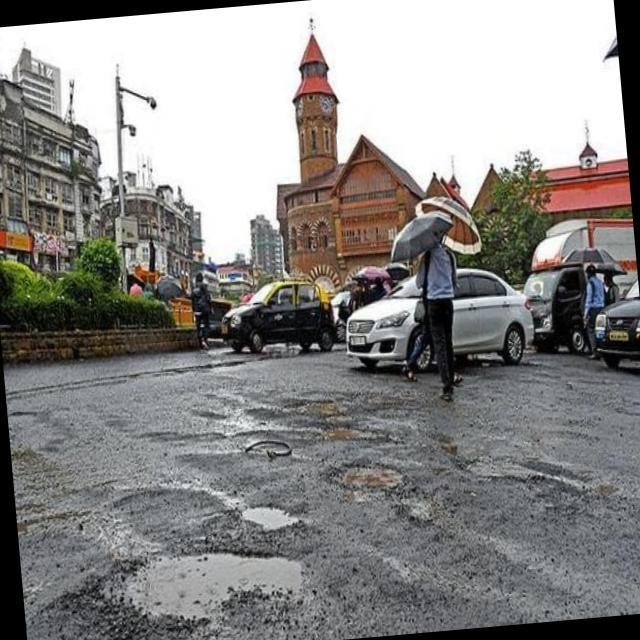Pothole: (91, 534, 315, 640), (458, 442, 582, 512), (330, 453, 414, 492), (232, 493, 300, 536), (314, 412, 386, 452), (395, 487, 438, 531)
